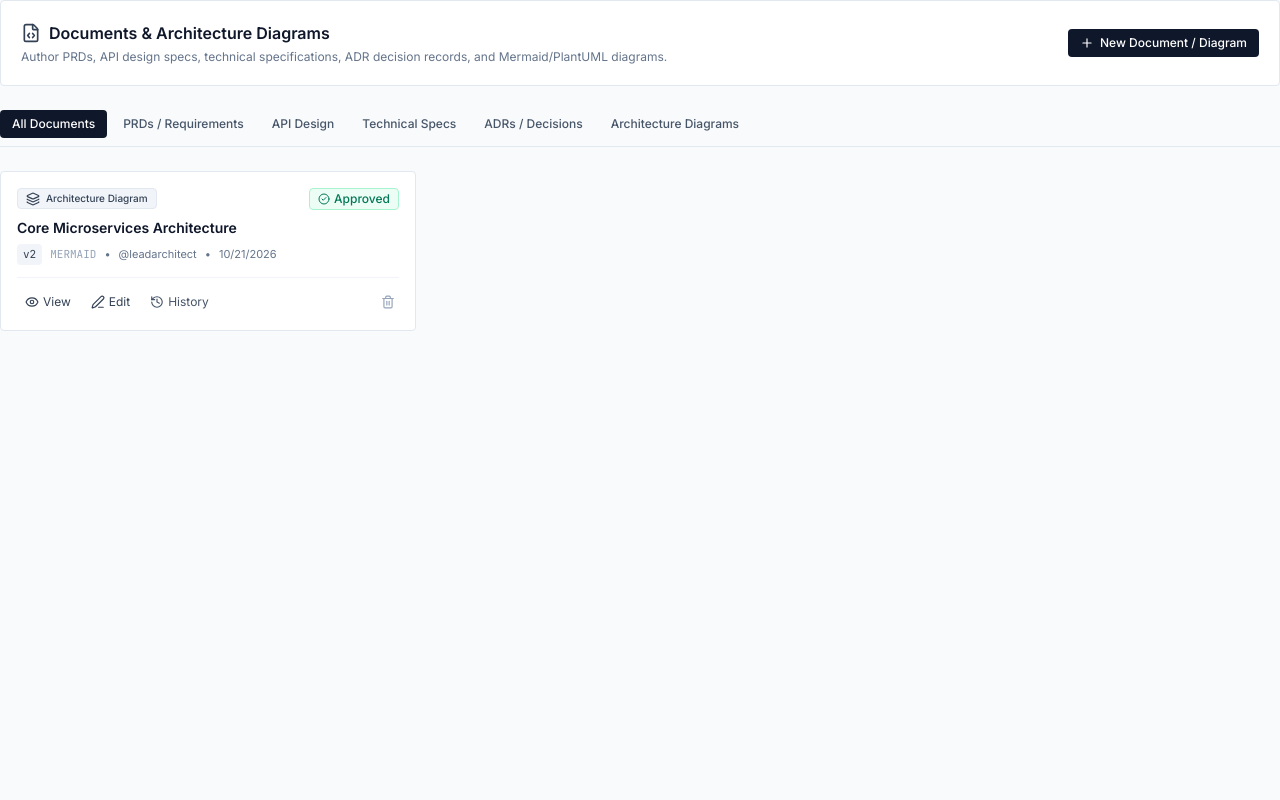
Test: Phase 4: Documents & Architecture Diagrams Components › opens Version History modal and allows inspecting historical snapshots
Expected: the heading "Core Microservices Architecture" is shown, [17,219,237,236]
Note: Click History button on the card
Click the button titled "Version History".
click(180, 302)  # box [142,290,217,314]
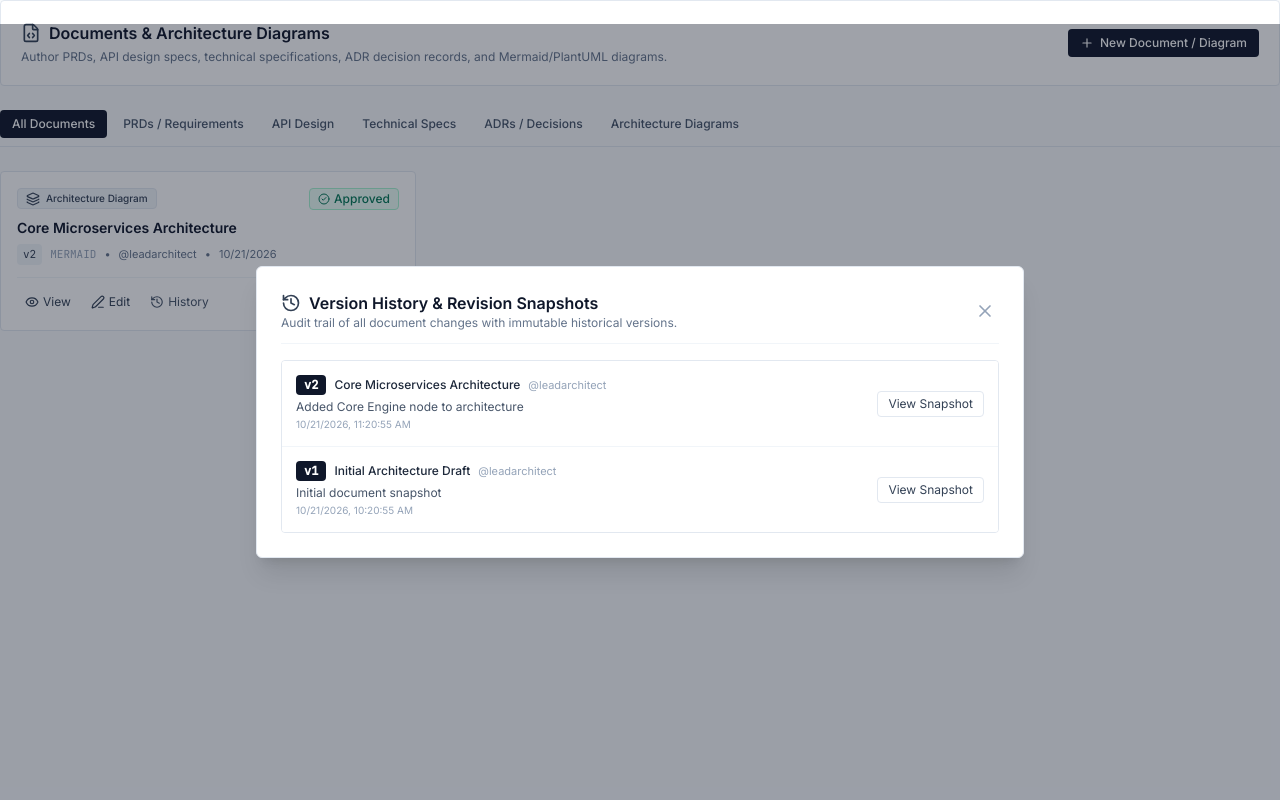
Now the heading "Version History & Revision Snapshots" is shown, box [281,293,598,313]
Now the text "Added Core Engine node to architecture" is shown, box [296,399,524,414]
Now the text "Initial document snapshot" is shown, box [296,485,442,500]
Note: Click "View Snapshot" for the first version
Click the button "View Snapshot" in the row of "Initial document snapshot".
click(931, 490)  # box [877,476,984,502]
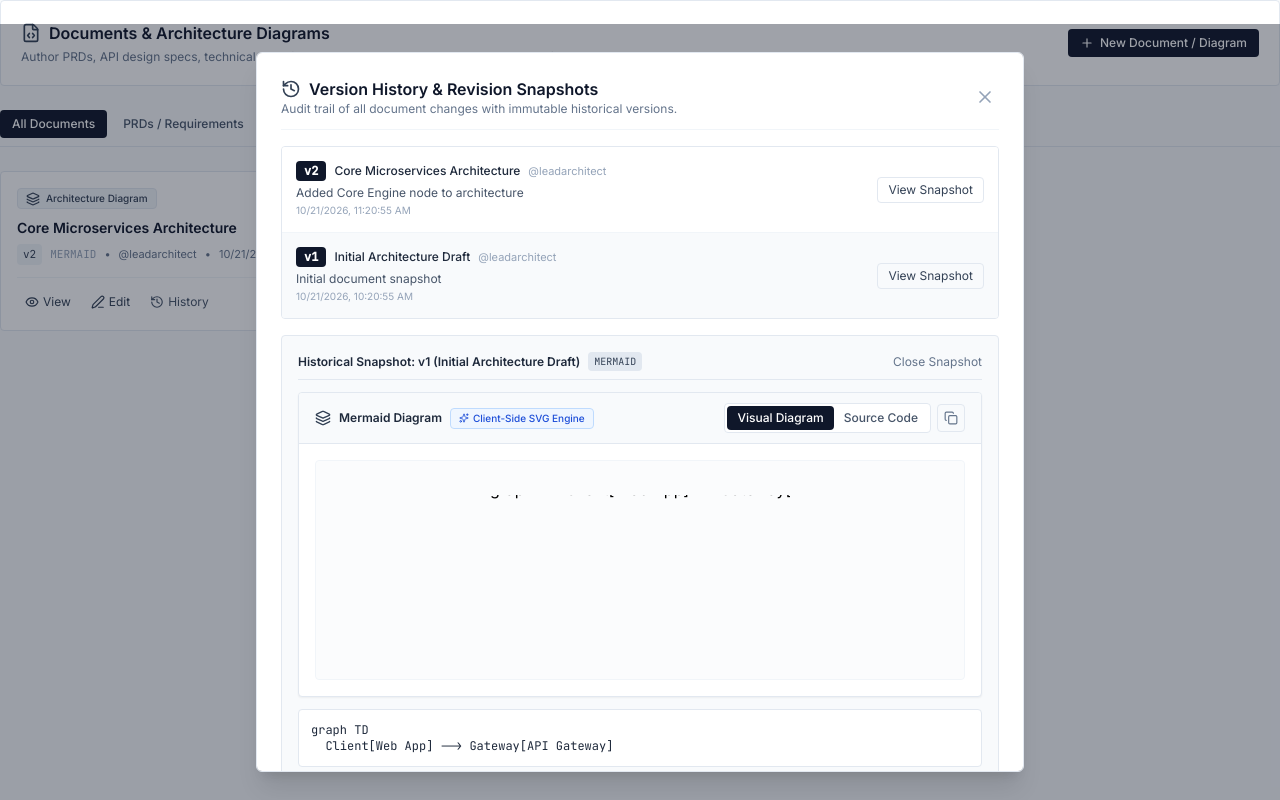
Now the text "Historical Snapshot: v1 (Initial Architecture Draft)" is shown, box [298,354,580,370]
Now the text "graph TD Client[Web App] --> Gateway[API Gateway]" is shown, box [298,709,982,767]
